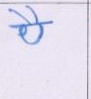ai_matra: (8, 6, 44, 22)
